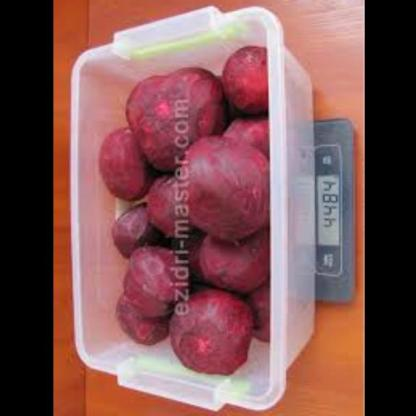beet: (104, 62, 260, 373)
